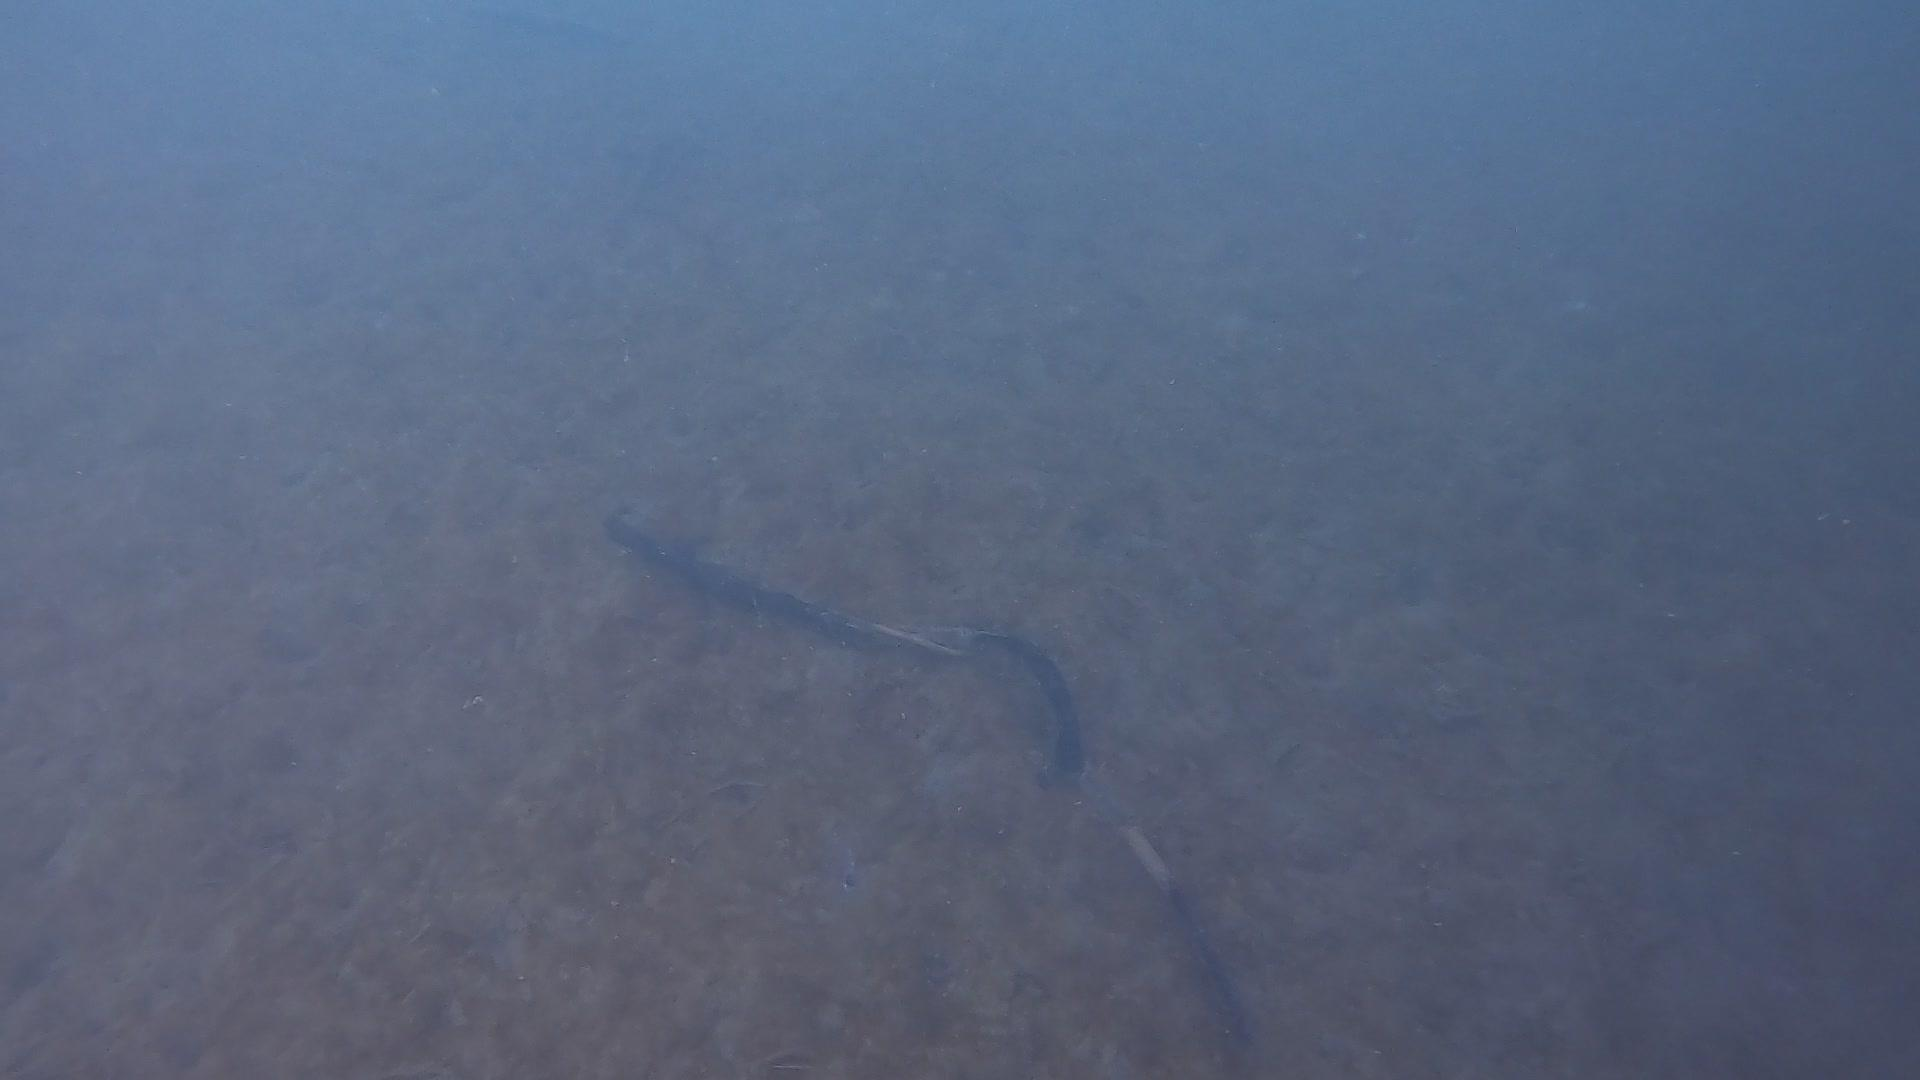wood: (603, 513, 1251, 1065)
